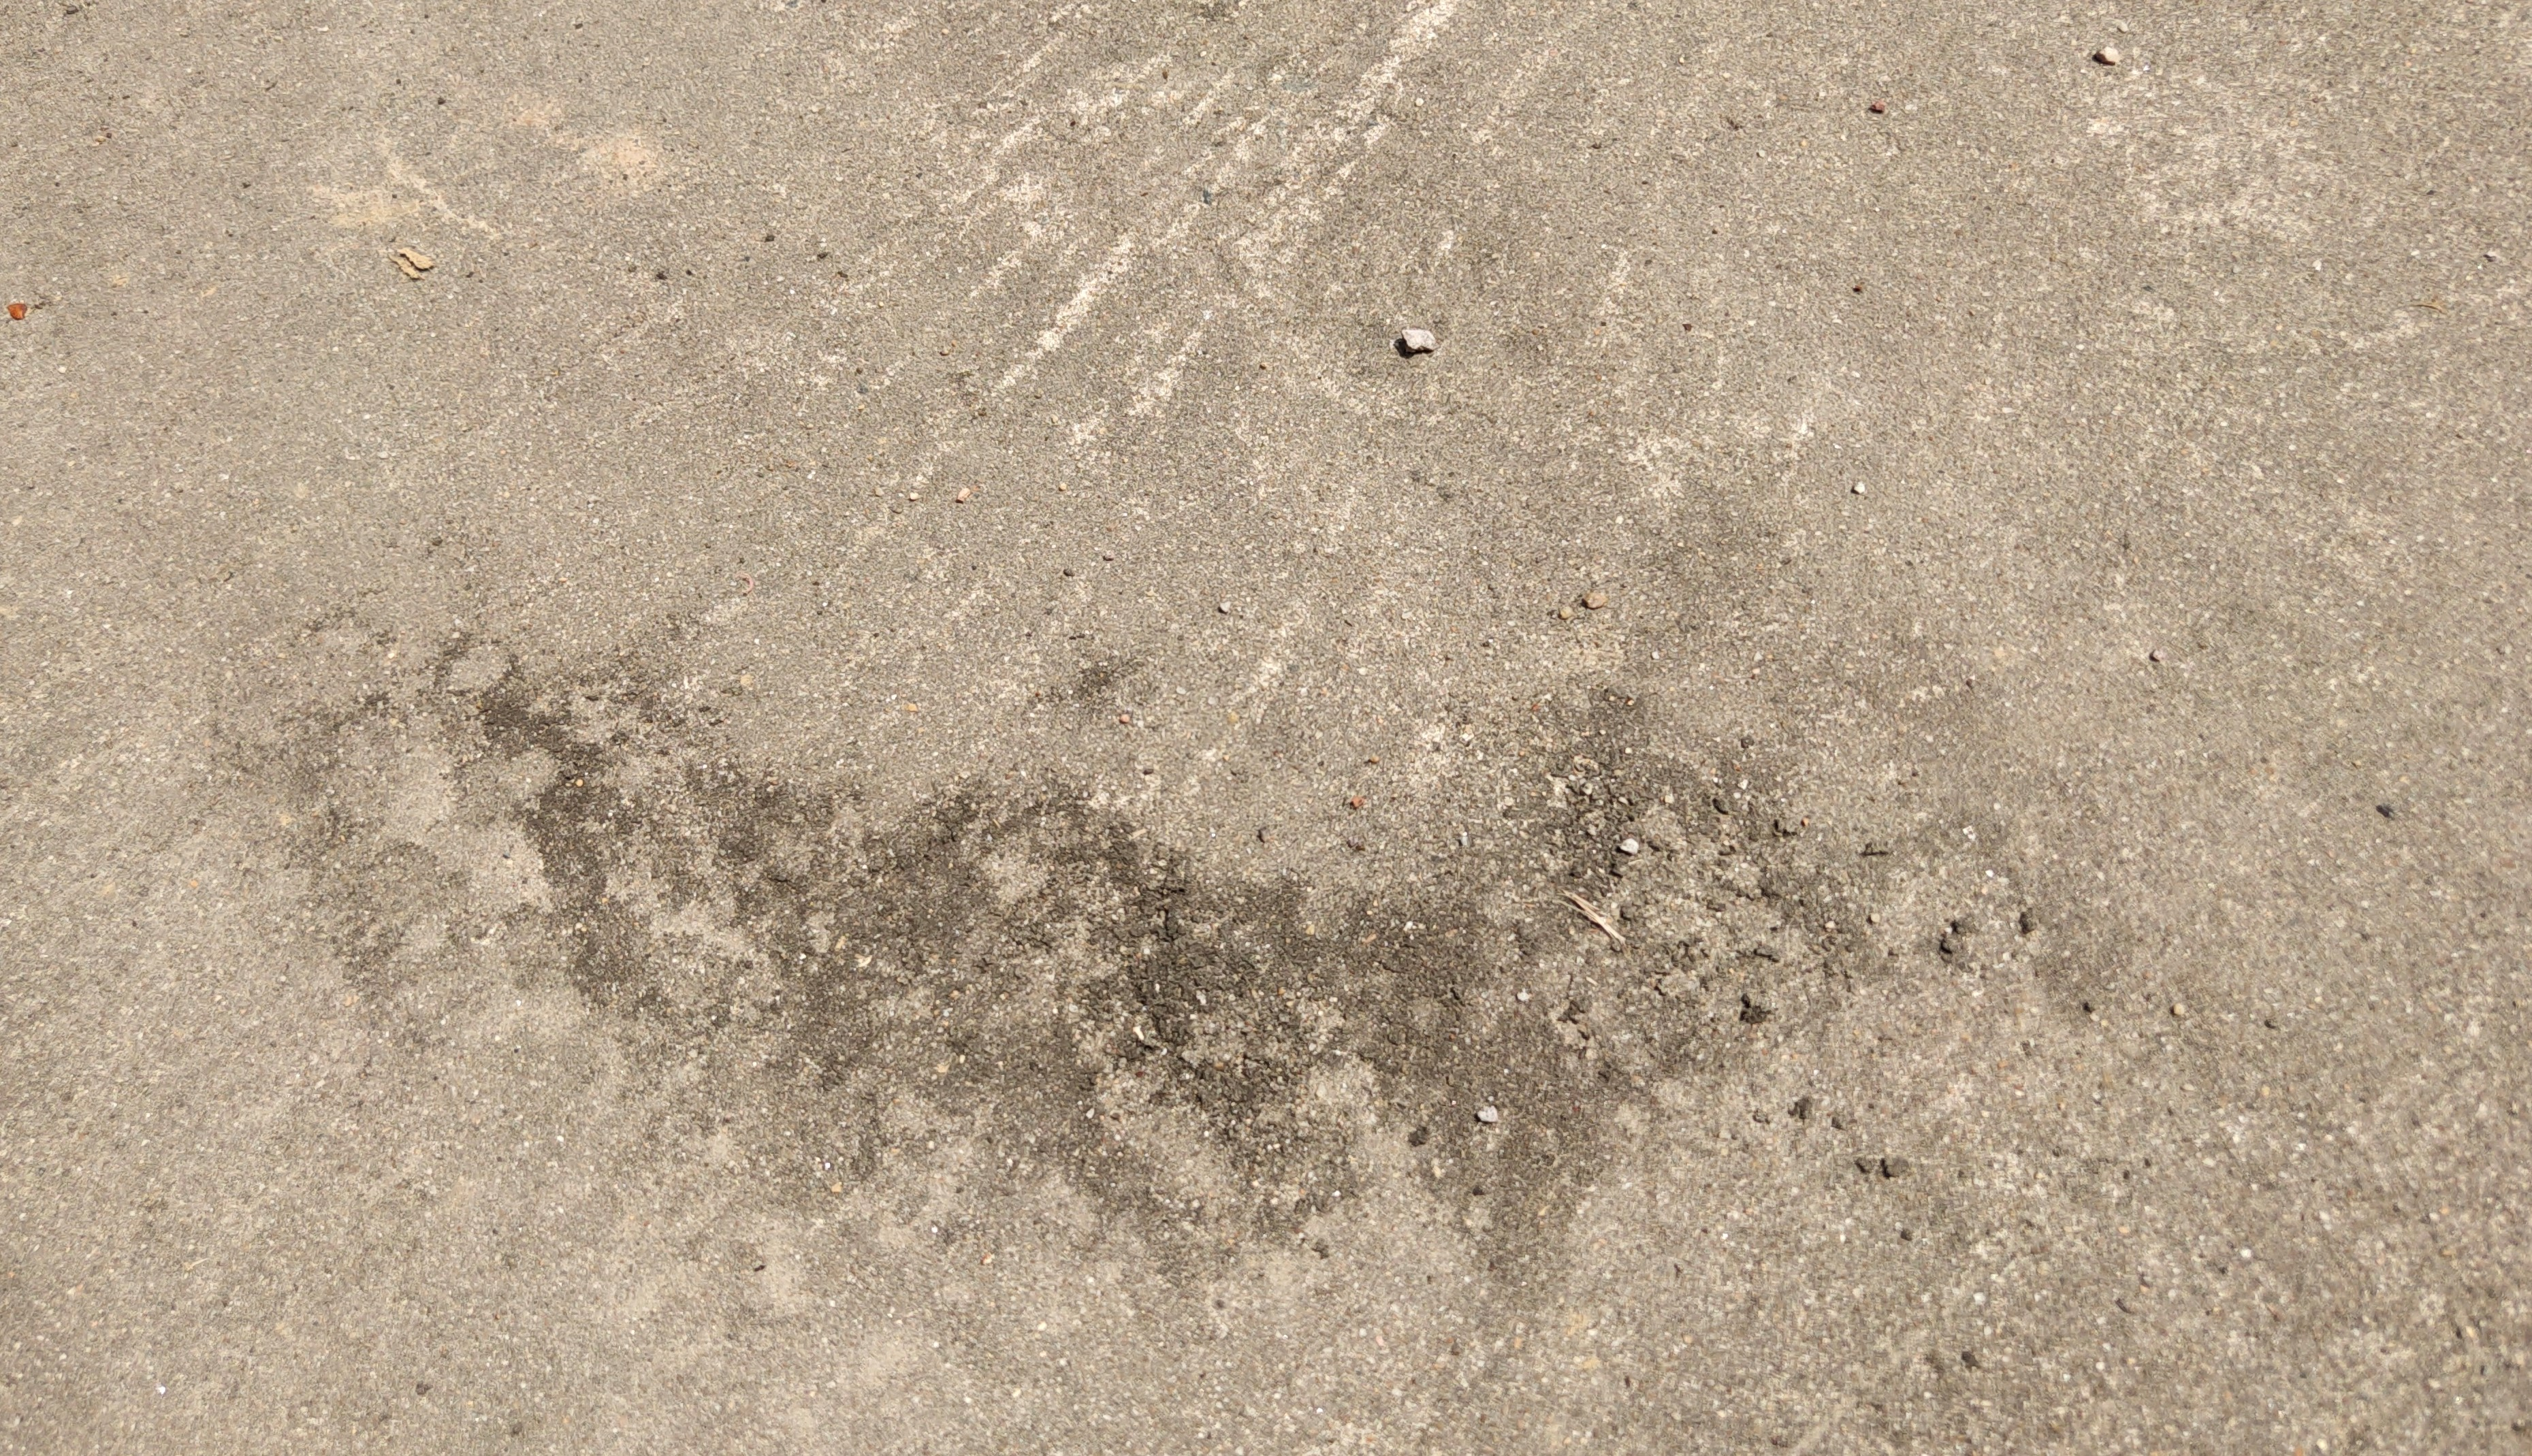ash pile: (195, 609, 2049, 1312)
